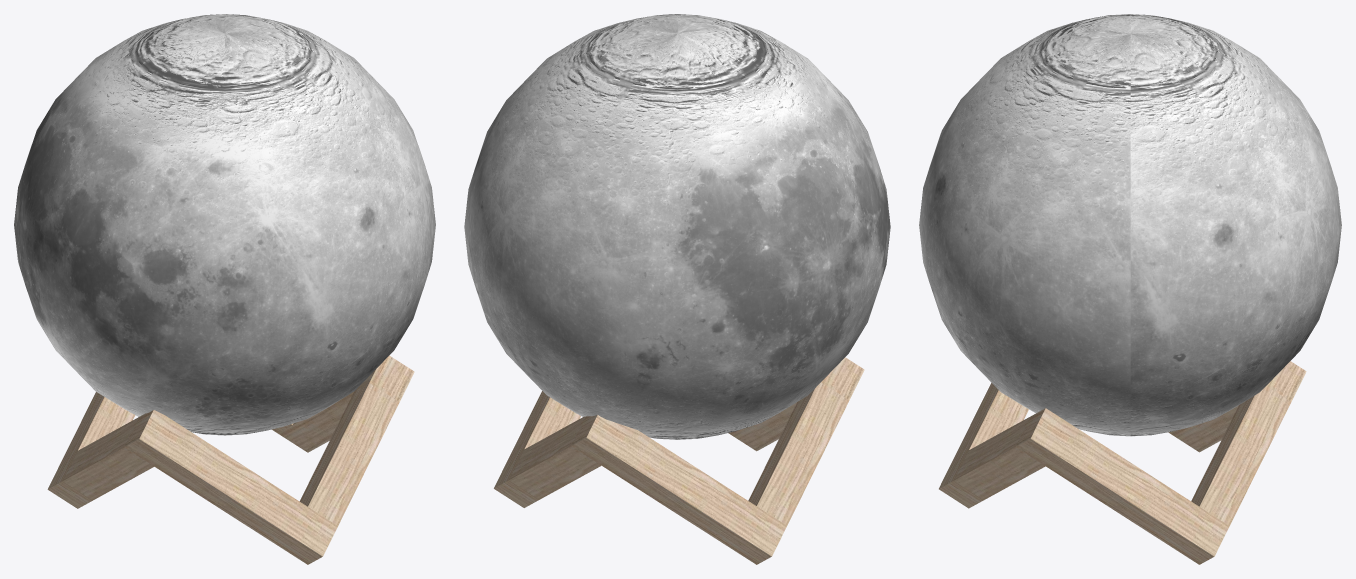
File: Moon.fbx
The picture shows the model from 3 angles, left to right: view 1: azimuth 30°, elevation 25°; view 2: azimuth 150°, elevation 25°; view 3: azimuth 270°, elevation 25°; orthographic projection.
Visible parts, largest first — view 1: ele_Moon+lamp.001, ele_Moon+lamp; view 2: ele_Moon+lamp.001, ele_Moon+lamp; view 3: ele_Moon+lamp.001, ele_Moon+lamp.
Part boxes in pixels (box(x1,y1,x2,y2)): ele_Moon+lamp.001: box(14, 14, 435, 435); ele_Moon+lamp: box(47, 355, 414, 564); ele_Moon+lamp.001: box(464, 14, 890, 439); ele_Moon+lamp: box(494, 357, 864, 564); ele_Moon+lamp.001: box(919, 14, 1341, 436); ele_Moon+lamp: box(939, 361, 1306, 564).
Bounding box in the file's own units: 48.61 × 60.13 × 48.62.
